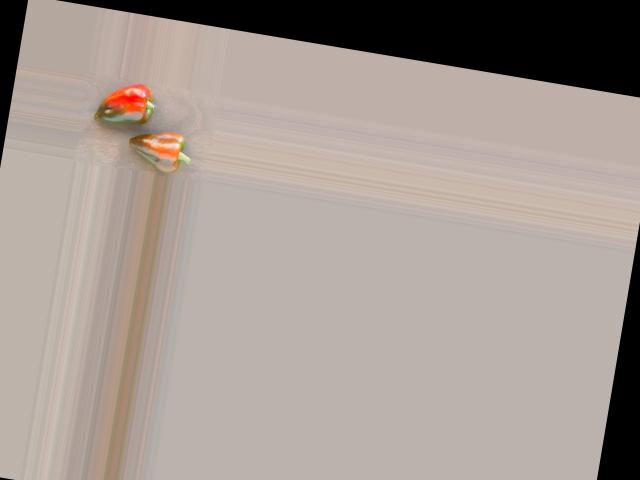bell_pepper: (89, 75, 178, 136)
